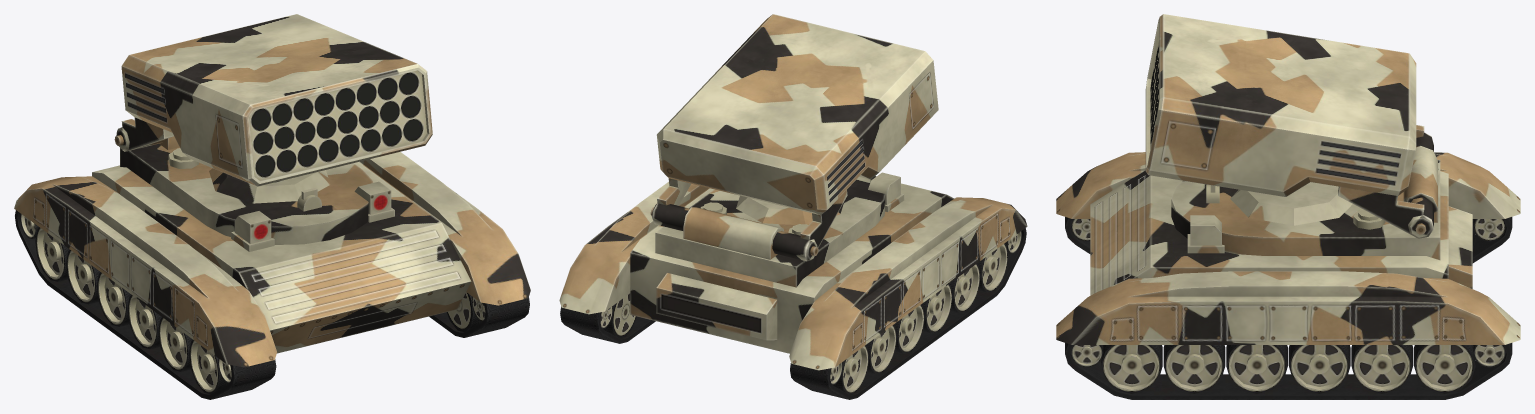
Rendered from MLRS.fbx.
The picture shows the model from 3 angles, left to right: view 1: azimuth 30°, elevation 25°; view 2: azimuth 150°, elevation 25°; view 3: azimuth 270°, elevation 25°; orthographic projection. The views are drawn at different scales.
Parts seen in each view (by area): view 1: MLRS; view 2: MLRS; view 3: MLRS.
Part boxes in pixels (x1=…): MLRS: x1=14, y1=14, x2=530, y2=399; MLRS: x1=559, y1=14, x2=1027, y2=399; MLRS: x1=1056, y1=14, x2=1520, y2=399.
Size of the model in its own units: 125 by 105 by 163.
1 material, 1 textured.
